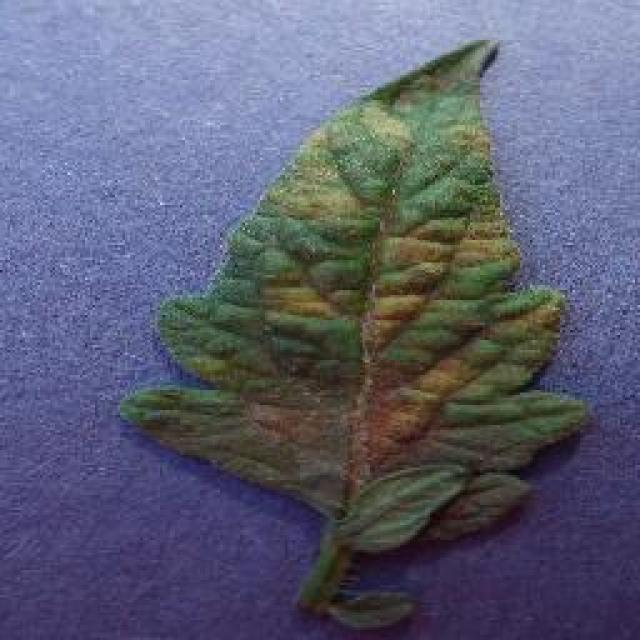Tomato mold leaf: (115, 34, 595, 571)
